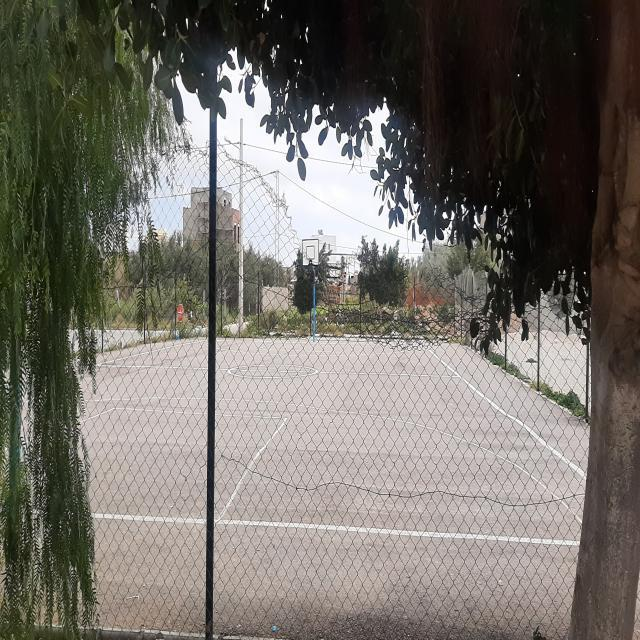fence line: (280, 179, 570, 334)
